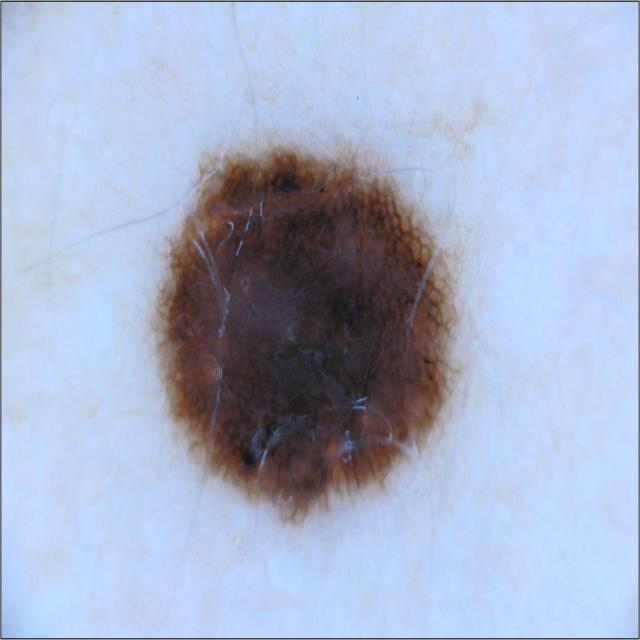Benign: (154, 132, 465, 522)
